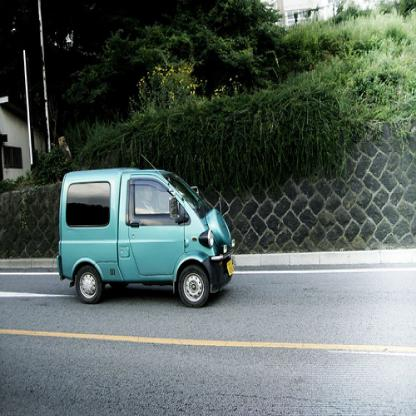car: (59, 164, 238, 311)
